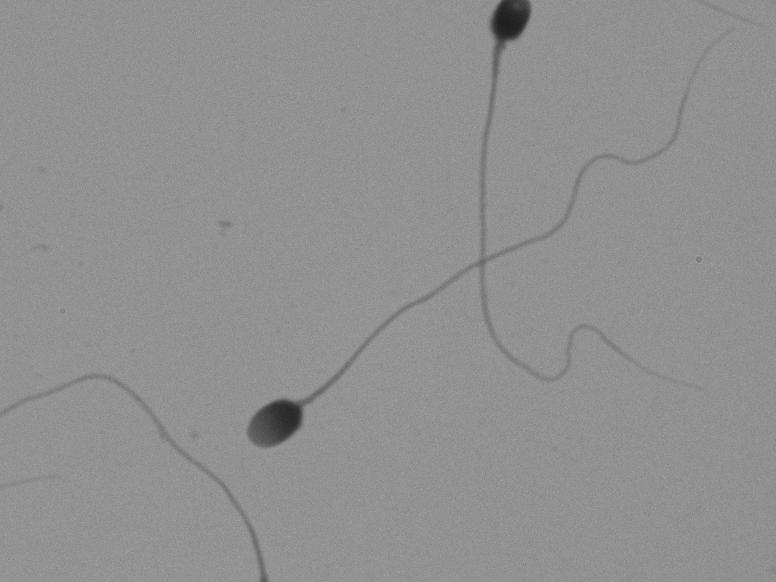Normal: (239, 85, 712, 479)
